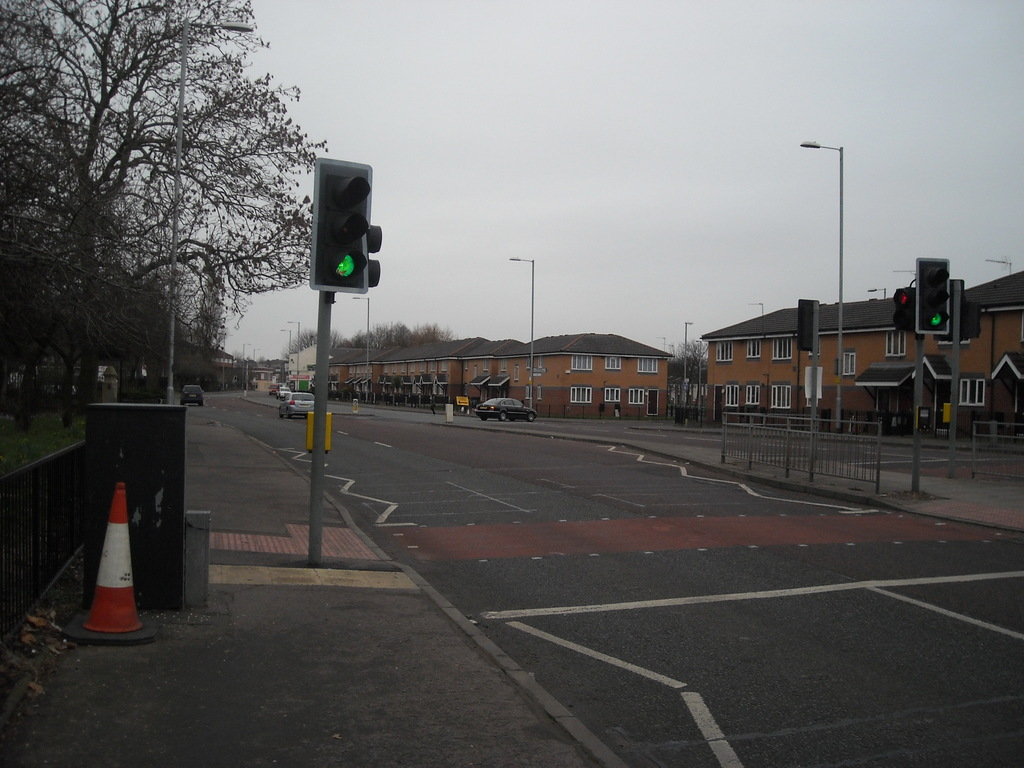green_light: (316, 159, 371, 290)
